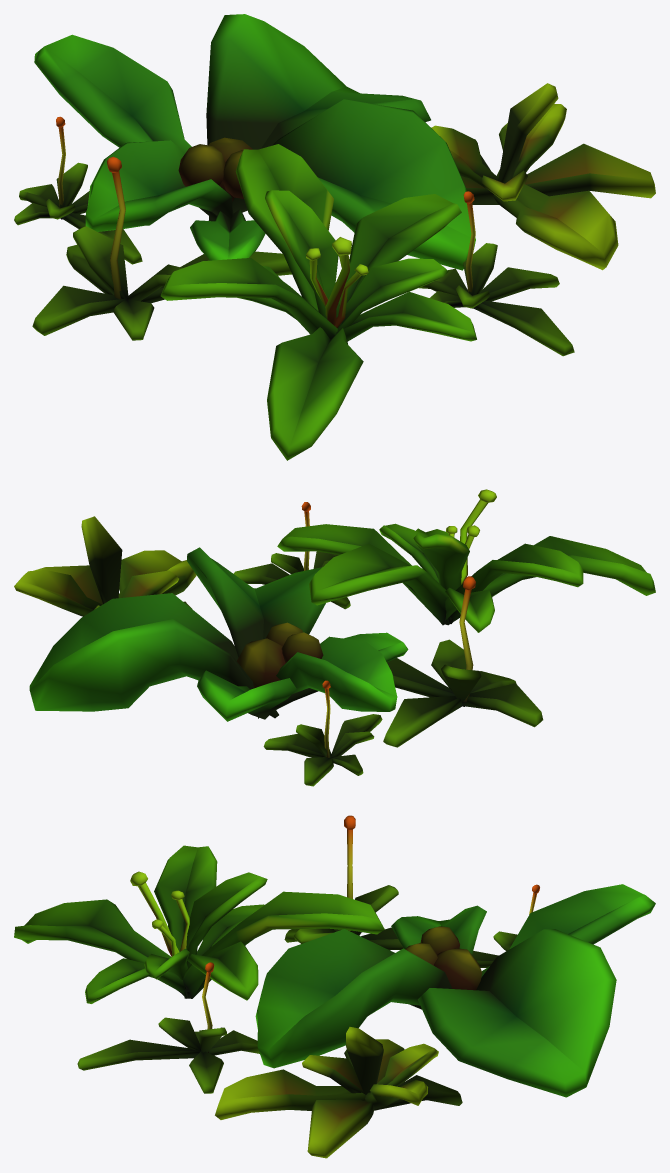
Rendered from Comp_05.fbx.
3 views of the same model, one above another, from view 1: azimuth 30°, elevation 25°; view 2: azimuth 150°, elevation 25°; view 3: azimuth 270°, elevation 25° (orthographic). The views are drawn at different scales.
Visible parts, largest first — view 1: Comp_05; view 2: Comp_05; view 3: Comp_05.
Part boxes in pixels (box(x1,y1,x2,y2)): Comp_05: box(14, 14, 655, 460); Comp_05: box(14, 489, 655, 786); Comp_05: box(14, 815, 655, 1158).
Bounding box in the file's own units: 3336 × 863 × 3617.
